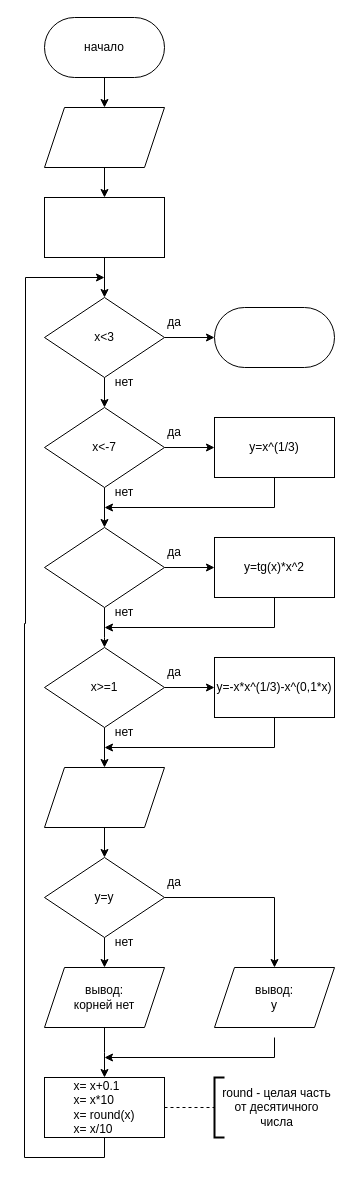
Some shapes in this 352 by 1183 pixel diagram are drawn without their labels. Each missing label, with the centre of its shape:
x=-9: the point at 104,227
x>=-7 и x<1: the point at 104,567
ввод: x: the point at 104,137
вывод: x: the point at 104,797
конец: the point at 274,337
